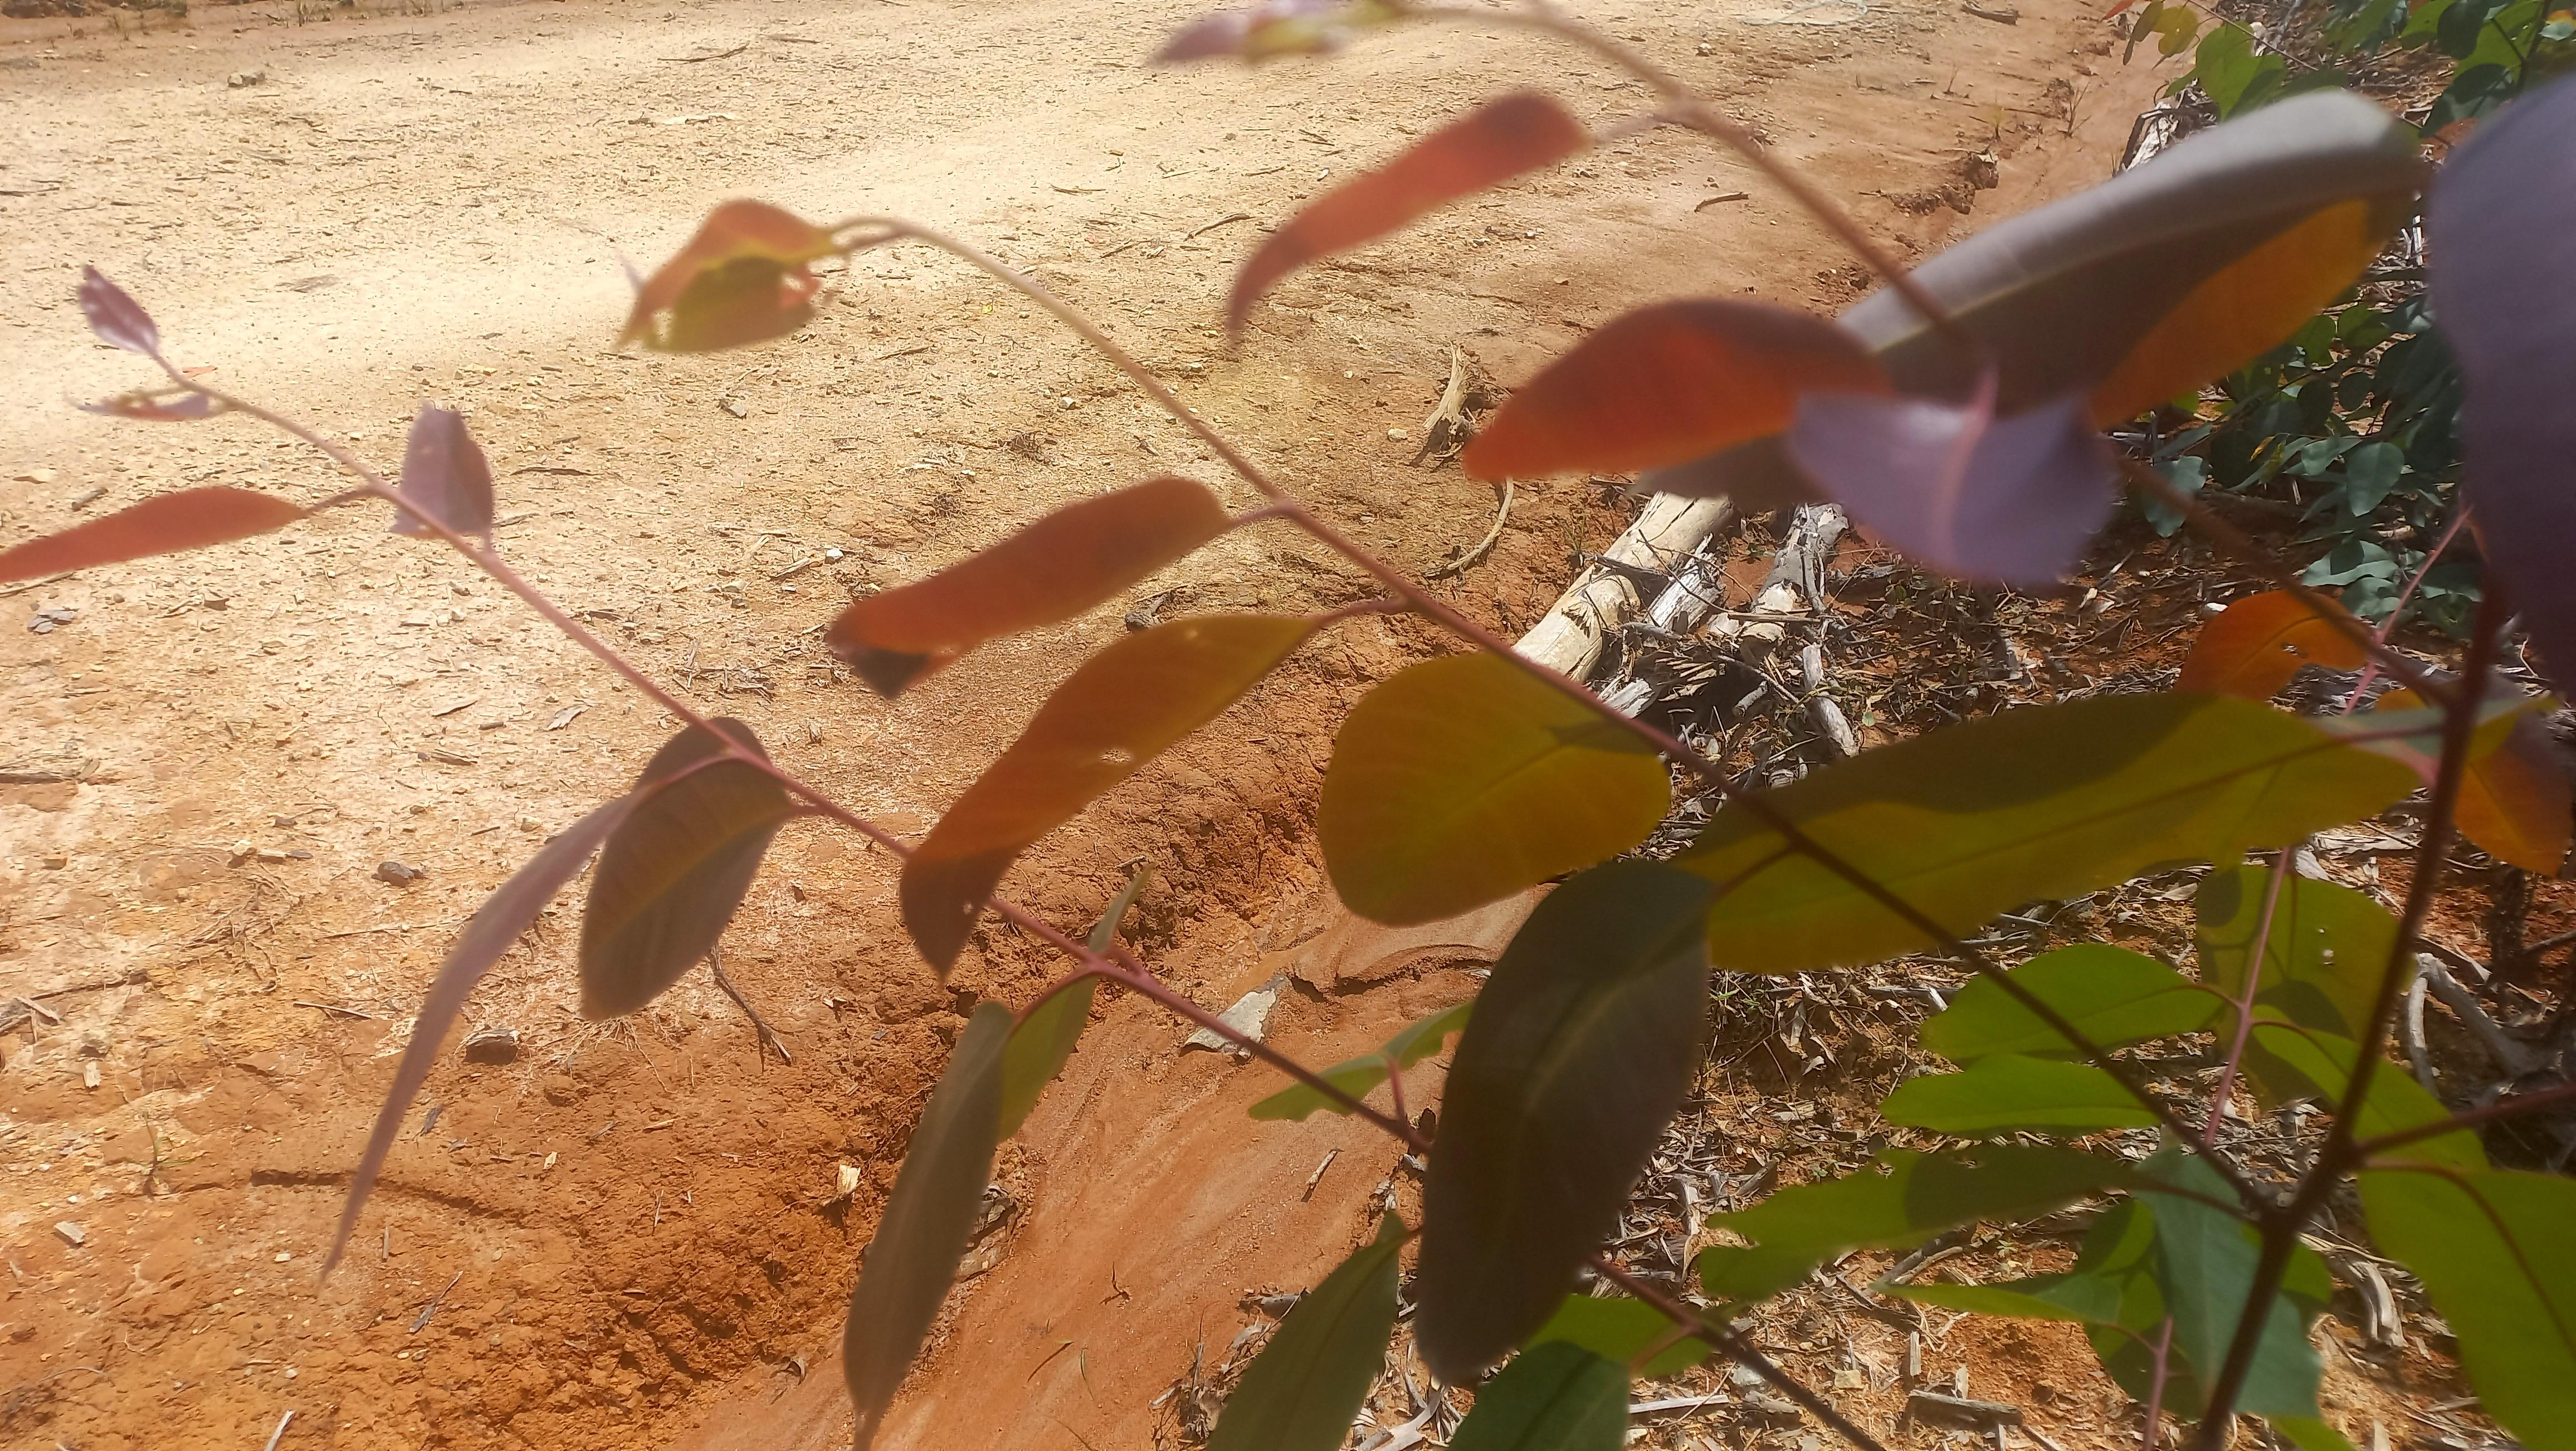Helopeltis-Withered Sprout: (596, 202, 830, 334), (1123, 0, 1405, 65), (71, 246, 166, 368), (60, 384, 216, 426)
